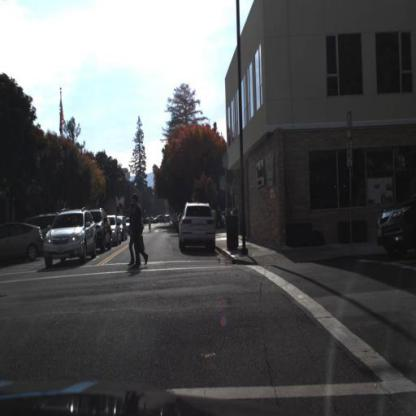car: (44, 208, 96, 265), (376, 184, 416, 256), (178, 200, 216, 251)
pedestrian: (126, 192, 148, 266), (132, 192, 145, 262), (128, 202, 136, 229)
